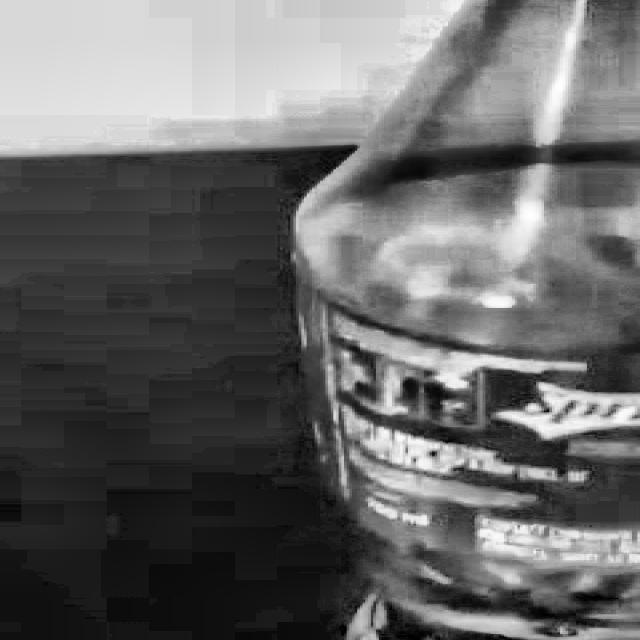bottle: (288, 0, 640, 640)
